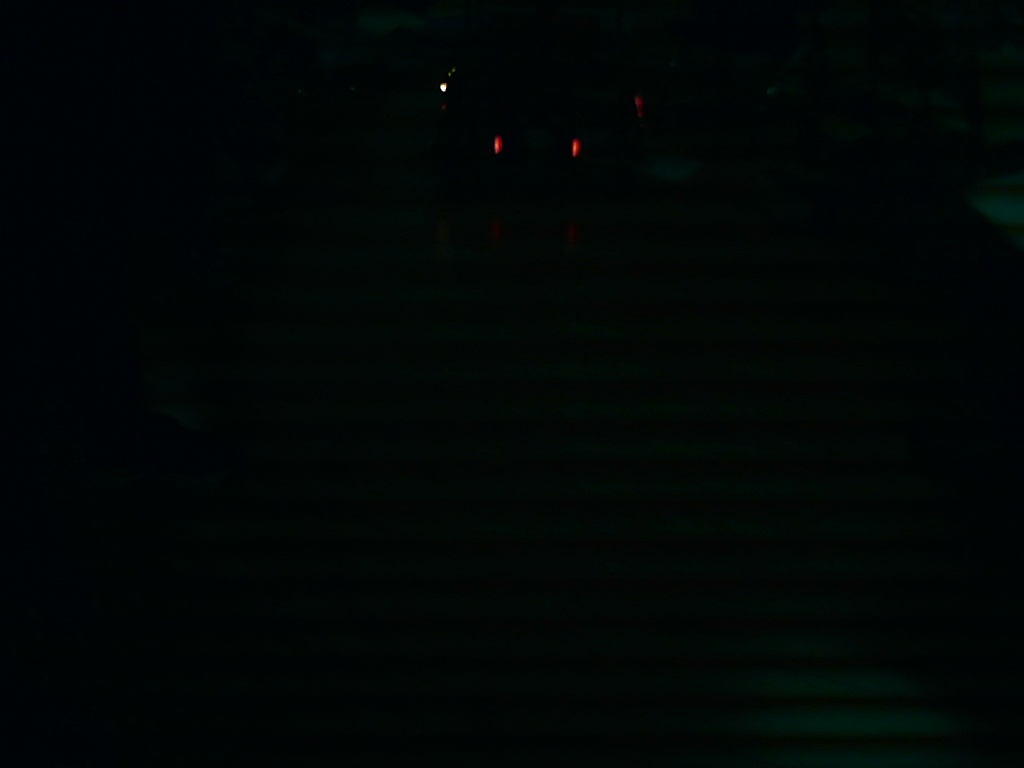lamp: (570, 136, 581, 161), (492, 132, 503, 155)
